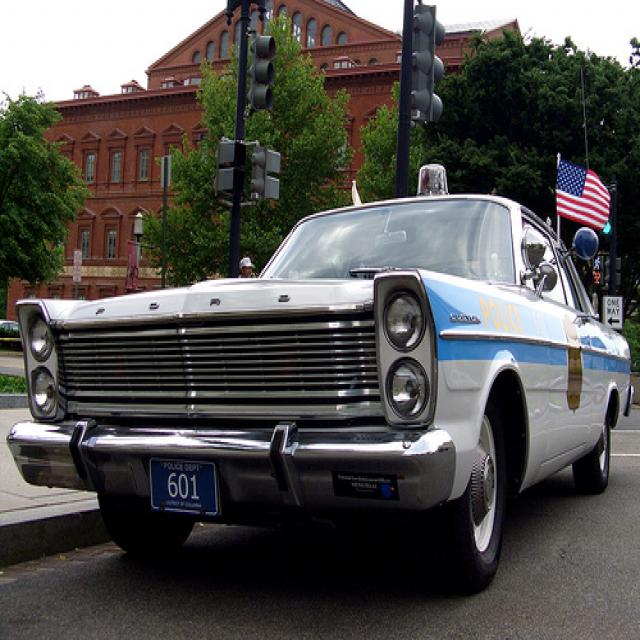Car: (0, 196, 640, 584)
